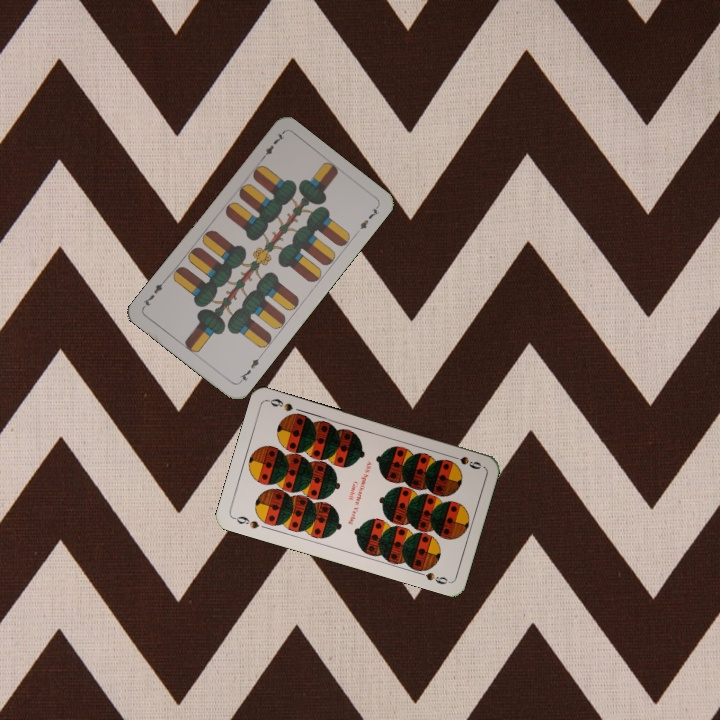E7: (257, 129, 287, 163), (235, 351, 264, 386)
S9: (445, 451, 484, 472), (229, 512, 262, 531)
